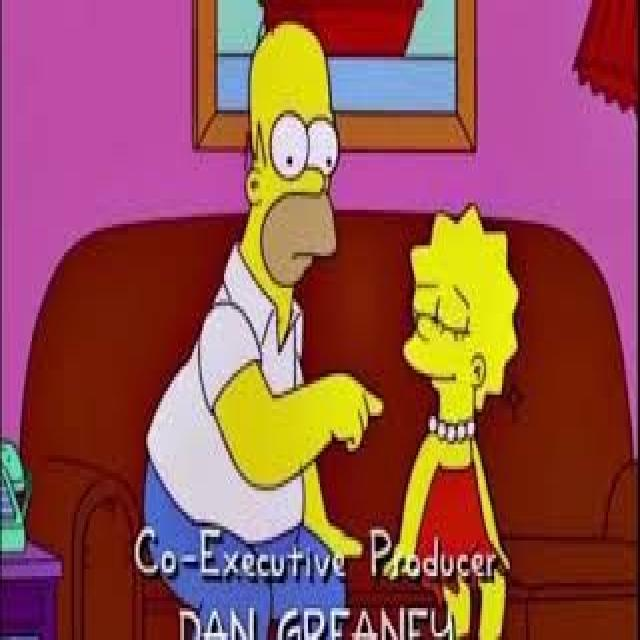Homer Simpson: (234, 7, 350, 299)
Lisa Simpson: (395, 194, 529, 453)
